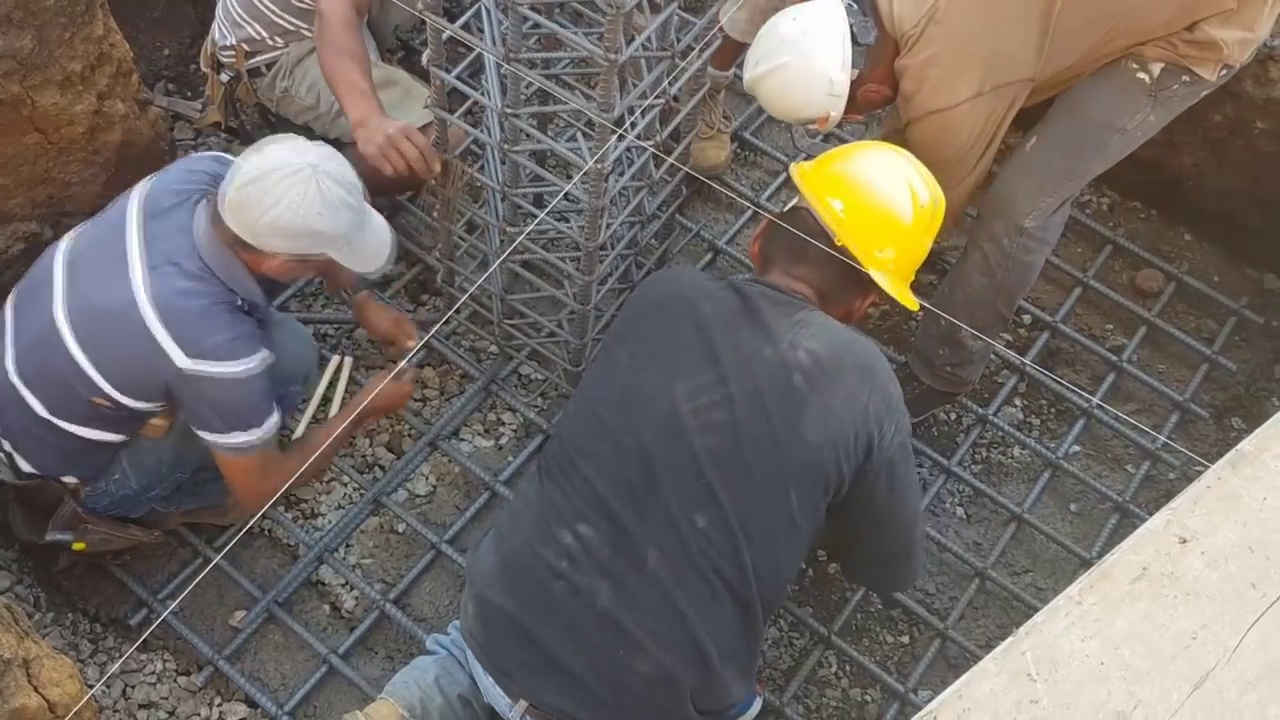helmet: (788, 140, 940, 314), (737, 3, 876, 123)
helmet-off: (205, 134, 390, 304)
helmet-on: (759, 138, 944, 316), (739, 3, 914, 125)
person: (346, 143, 942, 719), (735, 0, 1280, 425), (0, 133, 432, 543), (202, 2, 480, 190)
